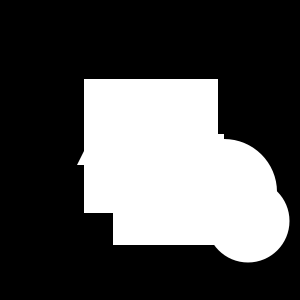circle: (84, 79, 218, 213), (113, 134, 224, 245)
rectangle: (171, 139, 277, 245), (206, 180, 290, 262)
triangle: (77, 102, 140, 165)
